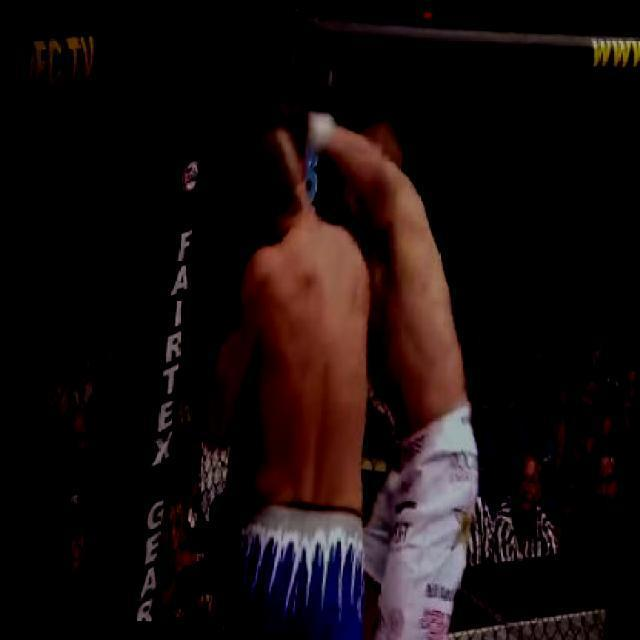fight: (177, 94, 523, 638)
